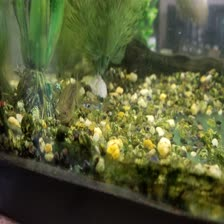Guppy: (52, 75, 102, 124)
